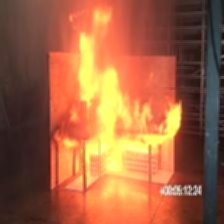fire: (52, 2, 186, 192)
